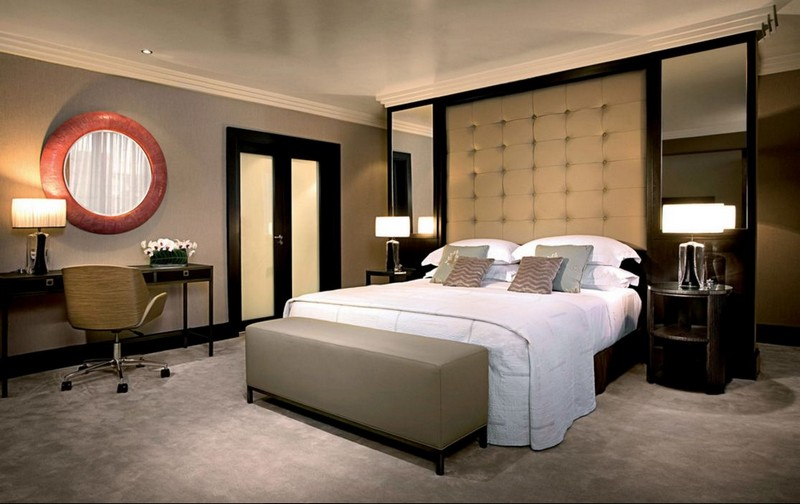bed: (255, 233, 647, 459)
chair: (61, 263, 171, 396)
lamp: (661, 199, 726, 294), (9, 196, 69, 285), (373, 215, 416, 276)
stool: (647, 283, 743, 394)
table: (146, 263, 225, 363)
